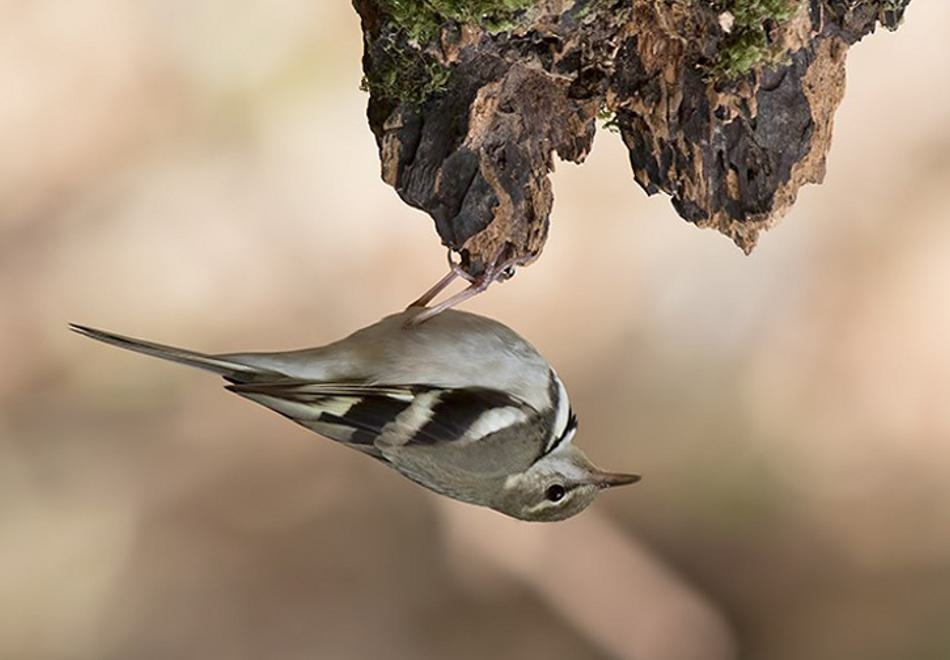wagtail: (137, 262, 653, 528)
